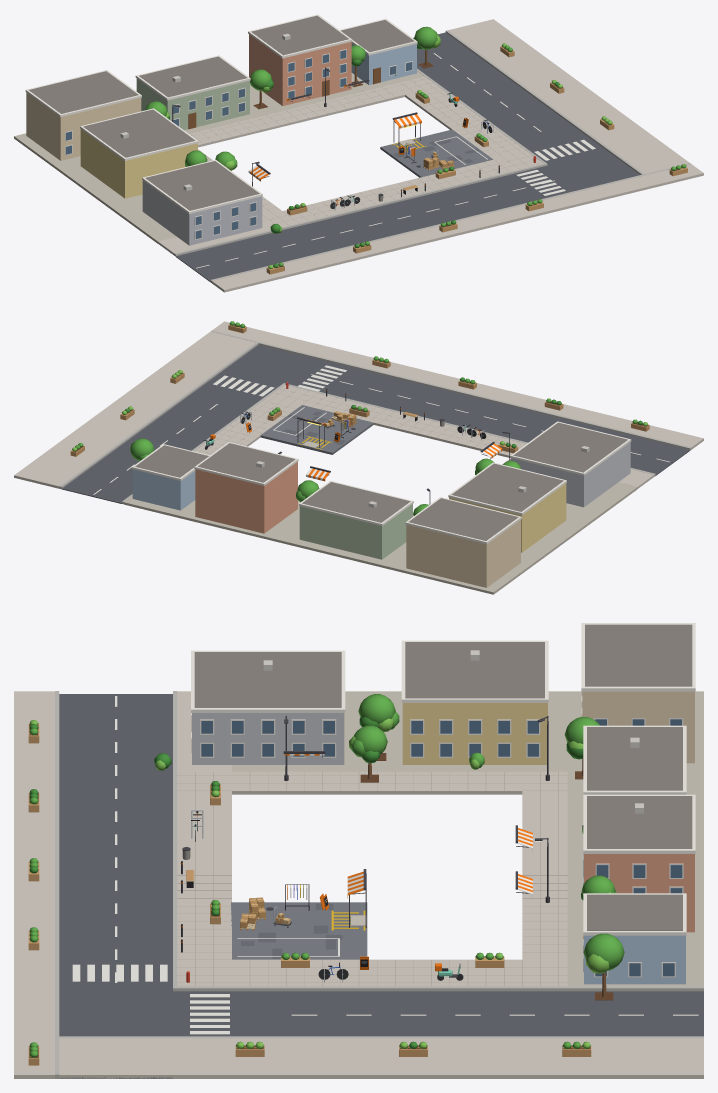
The model's file is umgebung.glb.
3 views of the same model, one above another, from view 1: azimuth 30°, elevation 25°; view 2: azimuth 150°, elevation 25°; view 3: azimuth 270°, elevation 25° (orthographic). The views are drawn at different scales.
Visible parts, largest first — view 1: umgebung; view 2: umgebung; view 3: umgebung.
Part boxes in pixels (<box>): umgebung: <box>14,14,703,292</box>; umgebung: <box>14,321,703,594</box>; umgebung: <box>14,623,703,1078</box>.
Bounding box in the file's own units: 50 × 5.58 × 38.
